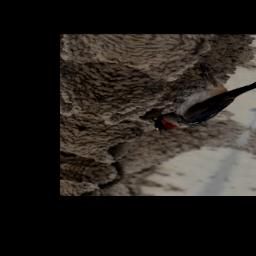Swallow: (147, 60, 256, 150)
